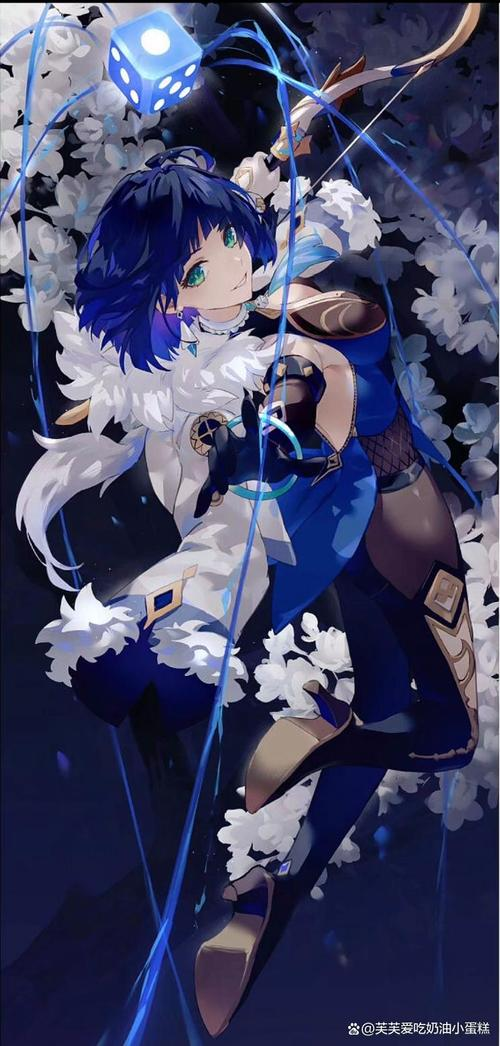夜兰: (11, 1, 486, 1038)
